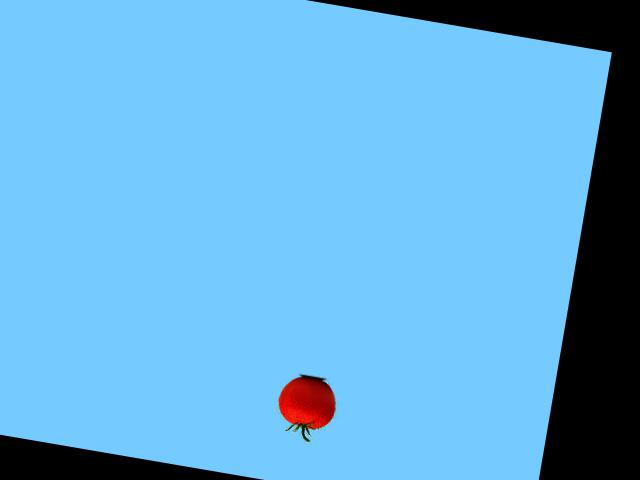tomato: (274, 372, 339, 431)
